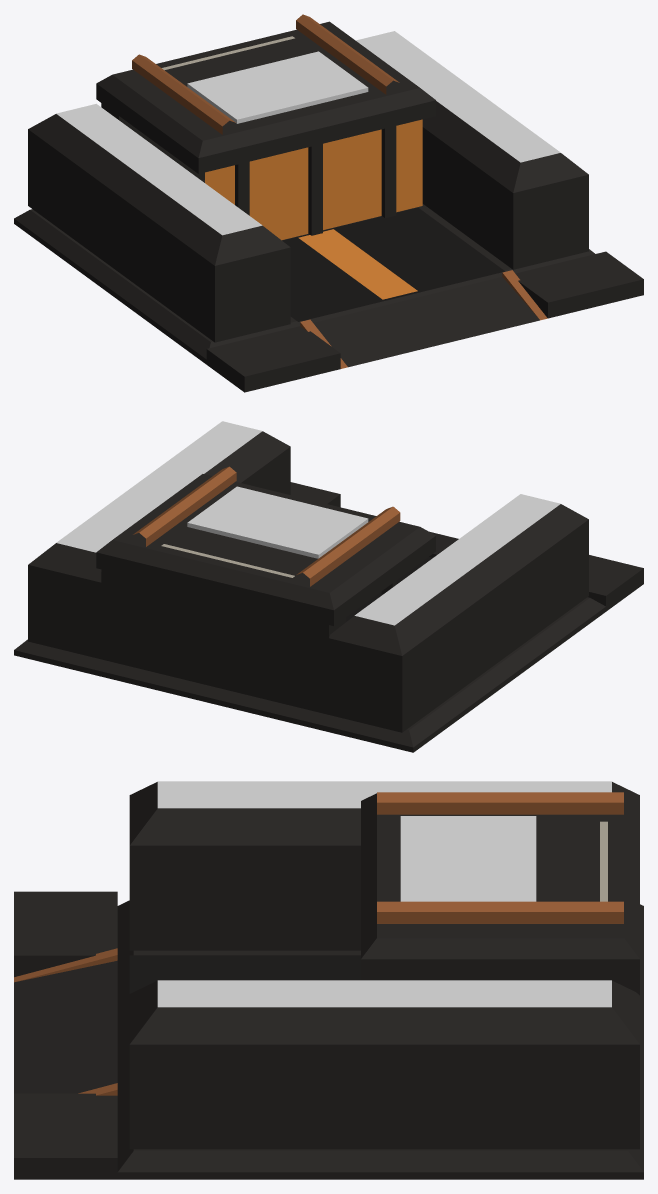
The model's file is str_t1_fac_land.99301c08.raw.glb.
3 renders of one model, top to bottom at view 1: azimuth 30°, elevation 25°; view 2: azimuth 150°, elevation 25°; view 3: azimuth 270°, elevation 25°, orthographic. The views are drawn at different scales.
Visible parts, largest first — view 1: lod0; view 2: lod0; view 3: lod0.
Boxes of the visible parts, bbox=[...] form: lod0: bbox=[14, 14, 643, 392]; lod0: bbox=[14, 421, 643, 752]; lod0: bbox=[14, 781, 643, 1179].
Size of what is drawn, in the model's own units: 4.94 by 1.73 by 4.94.
